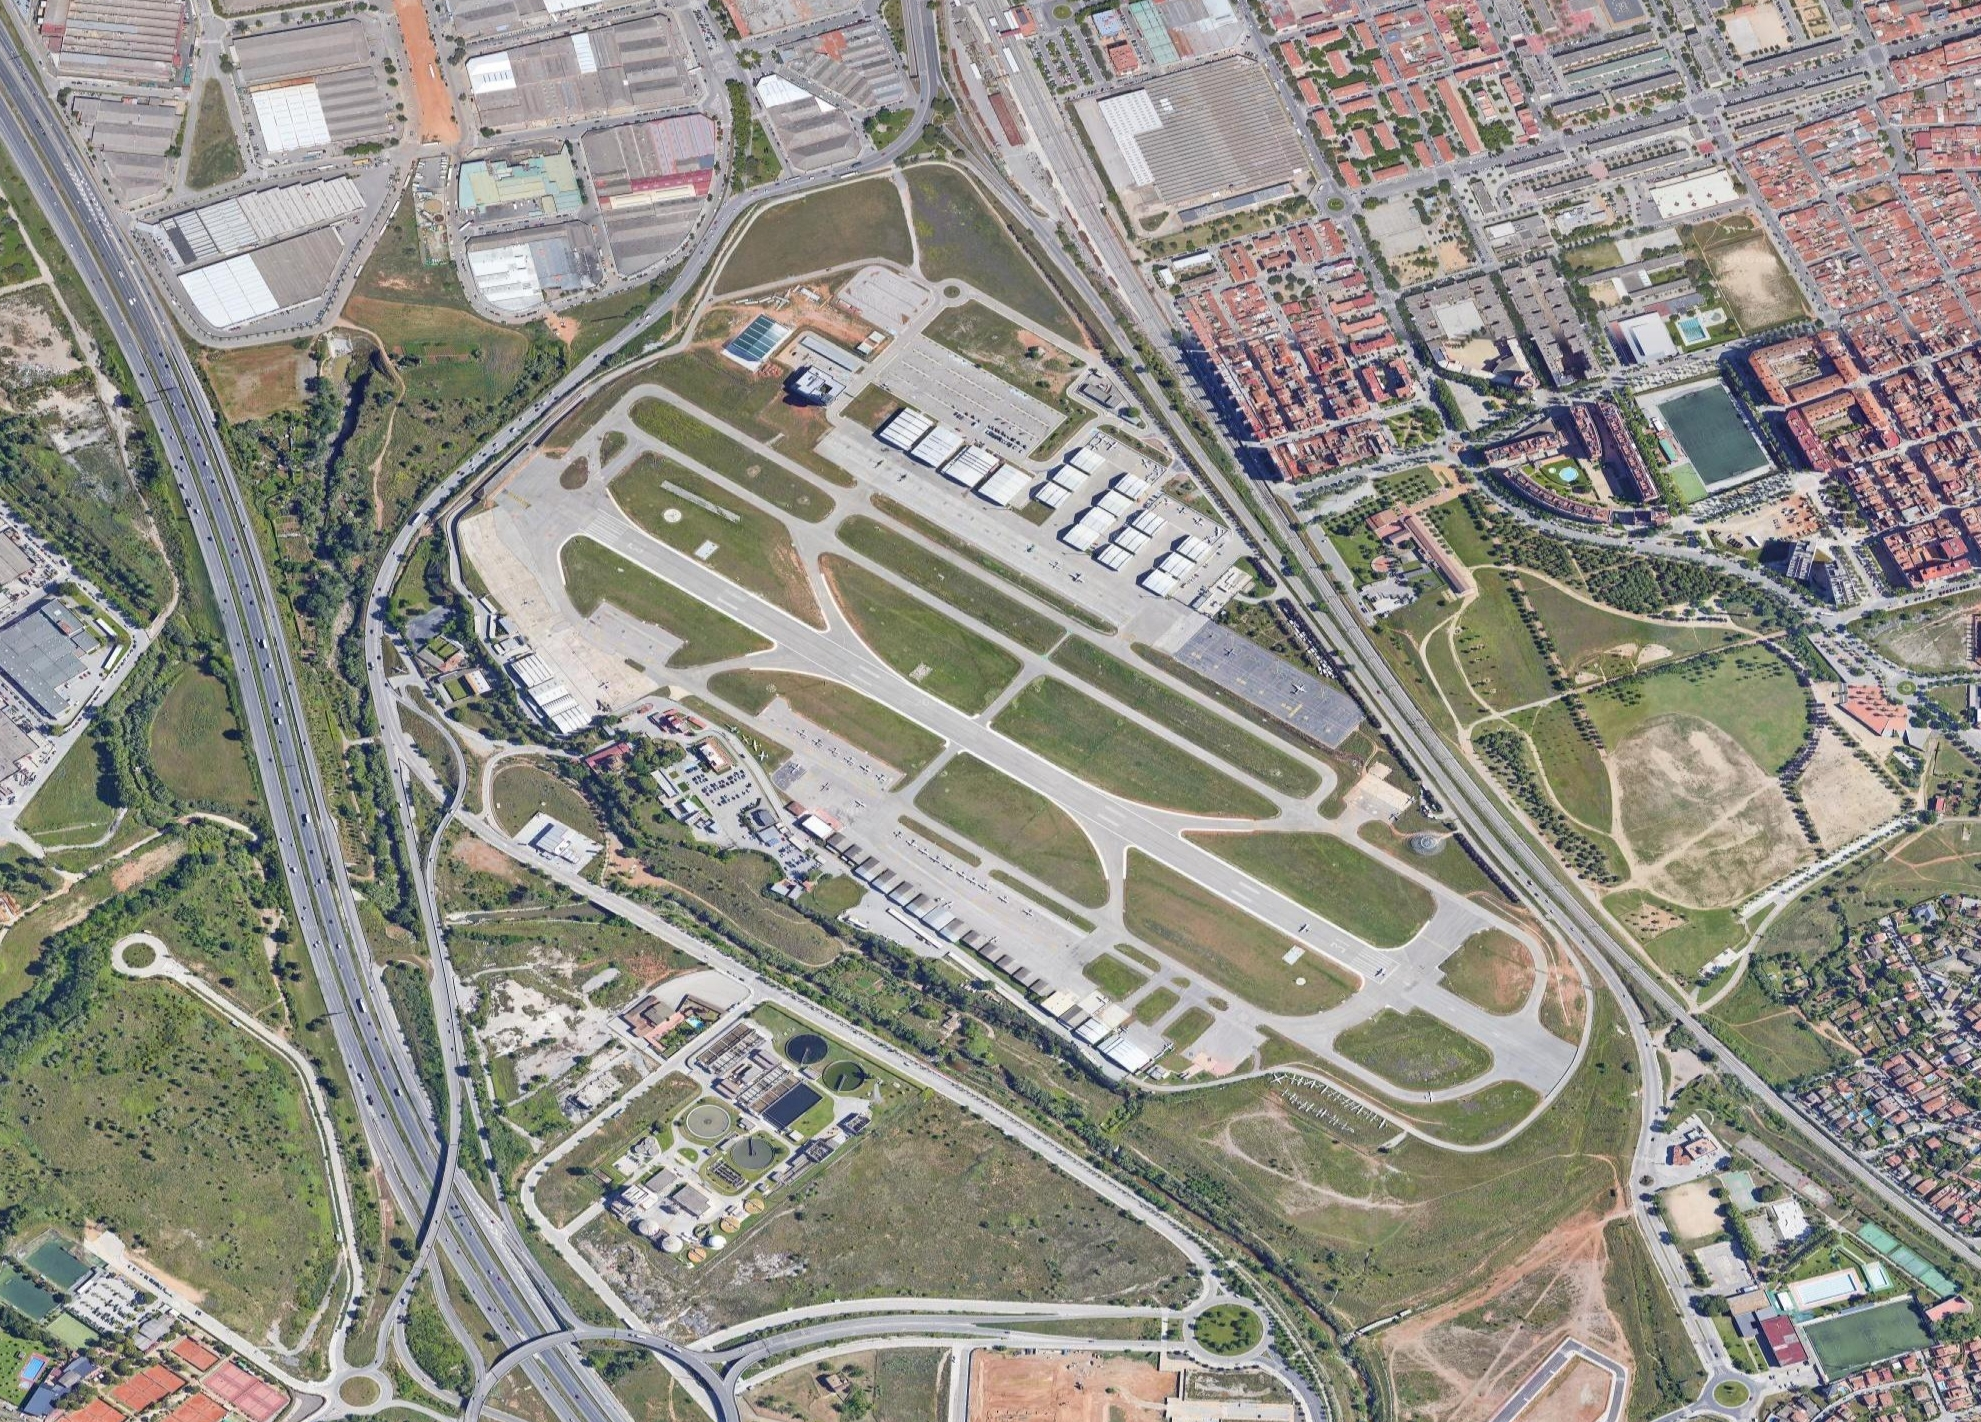airport: (440, 254, 1596, 1155)
industrial: (111, 2, 883, 294)
motorway: (123, 351, 277, 620), (288, 884, 438, 1156), (2, 92, 154, 361), (421, 1236, 597, 1422), (235, 616, 349, 885), (1167, 384, 1300, 561), (703, 1290, 949, 1382), (954, 1277, 1200, 1370), (951, 152, 1112, 275), (1070, 248, 1200, 395), (584, 879, 758, 988), (923, 1081, 1097, 1188), (755, 985, 929, 1091), (360, 1142, 506, 1264), (363, 653, 437, 892), (358, 478, 452, 656), (1086, 1185, 1234, 1297), (1859, 1155, 1981, 1285), (818, 78, 961, 184), (414, 899, 475, 1142), (448, 367, 572, 486), (574, 261, 698, 380), (697, 160, 821, 278), (1486, 819, 1603, 945), (1600, 945, 1730, 1058), (1372, 690, 1486, 816), (1273, 560, 1386, 687), (1724, 1059, 1853, 1164)
